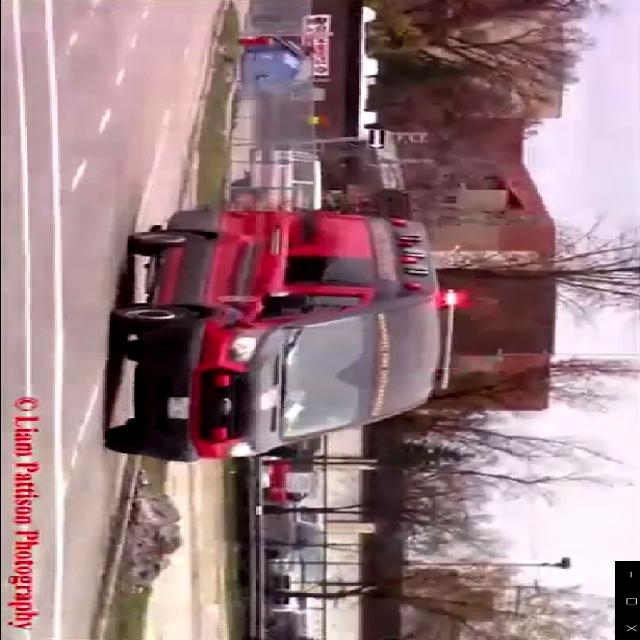emergency: (92, 203, 470, 459)
